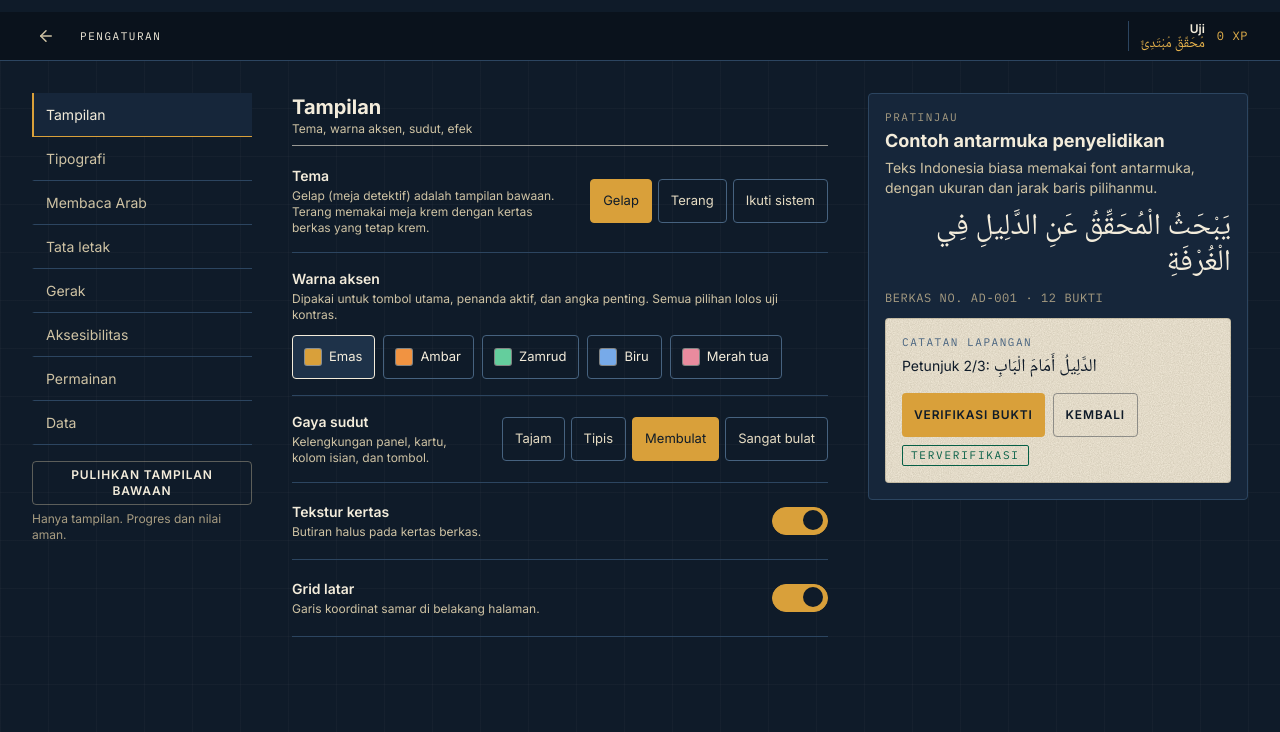
Test: Settings page › groups settings into the eight categories and shows one at a time
Expected: the element named "Tema" is shown, [590,179,828,223]
Expected: the element "Ukuran teks" is not shown
Click the tab "Tipografi": (142, 159) [32,137,252,181]
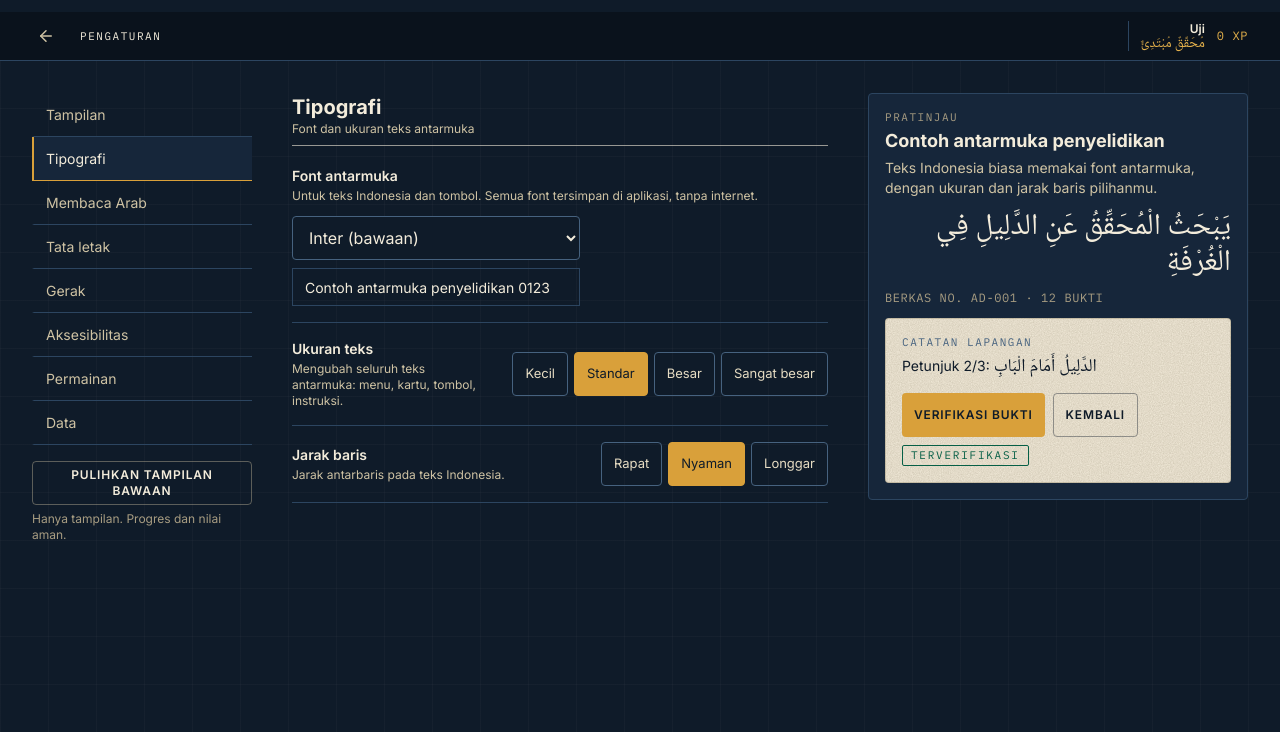
Expected: the element named "Ukuran teks" is shown, [512,352,828,396]
